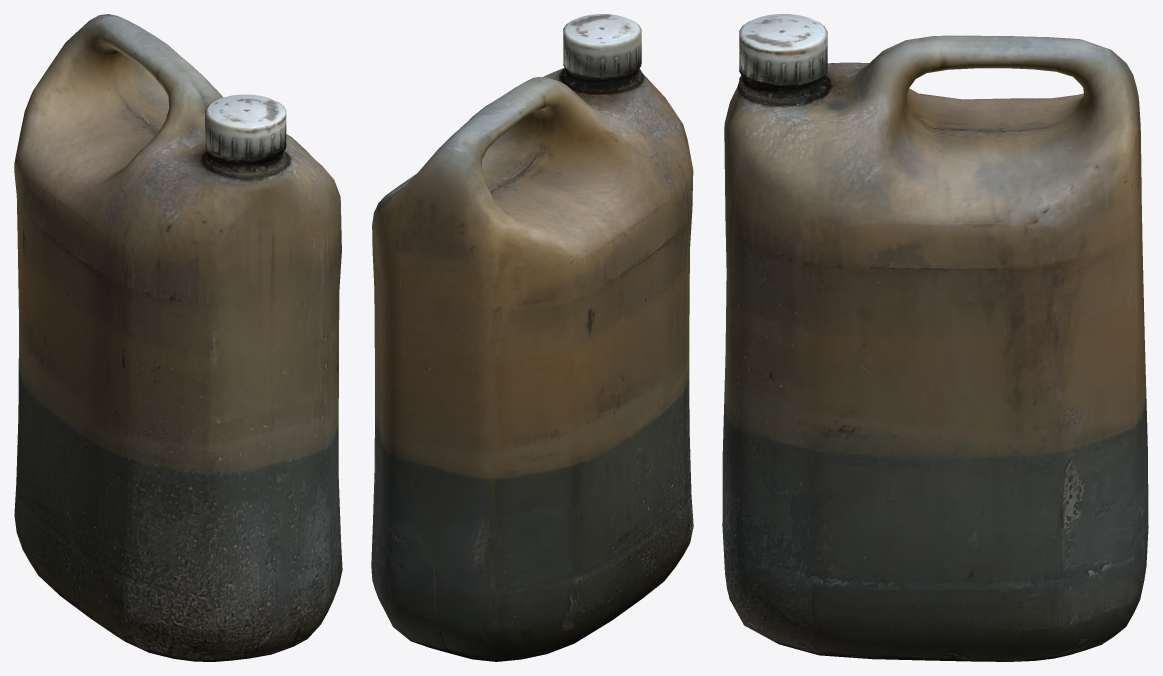
Rendered from gasolina.glb.
3 renders of one model, left to right at view 1: azimuth 30°, elevation 25°; view 2: azimuth 150°, elevation 25°; view 3: azimuth 270°, elevation 25°, orthographic. The views are drawn at different scales.
Parts seen in each view (by area): view 1: model_diffuse-material; view 2: model_diffuse-material; view 3: model_diffuse-material.
Part boxes in pixels (left/top/right/bottom): model_diffuse-material: left=14, top=14, right=342, bottom=661; model_diffuse-material: left=371, top=14, right=693, bottom=661; model_diffuse-material: left=722, top=14, right=1148, bottom=661.
Bounding box in the file's own units: 3.02 × 6.63 × 4.41.
Materials: 1 (1 with a texture image).
